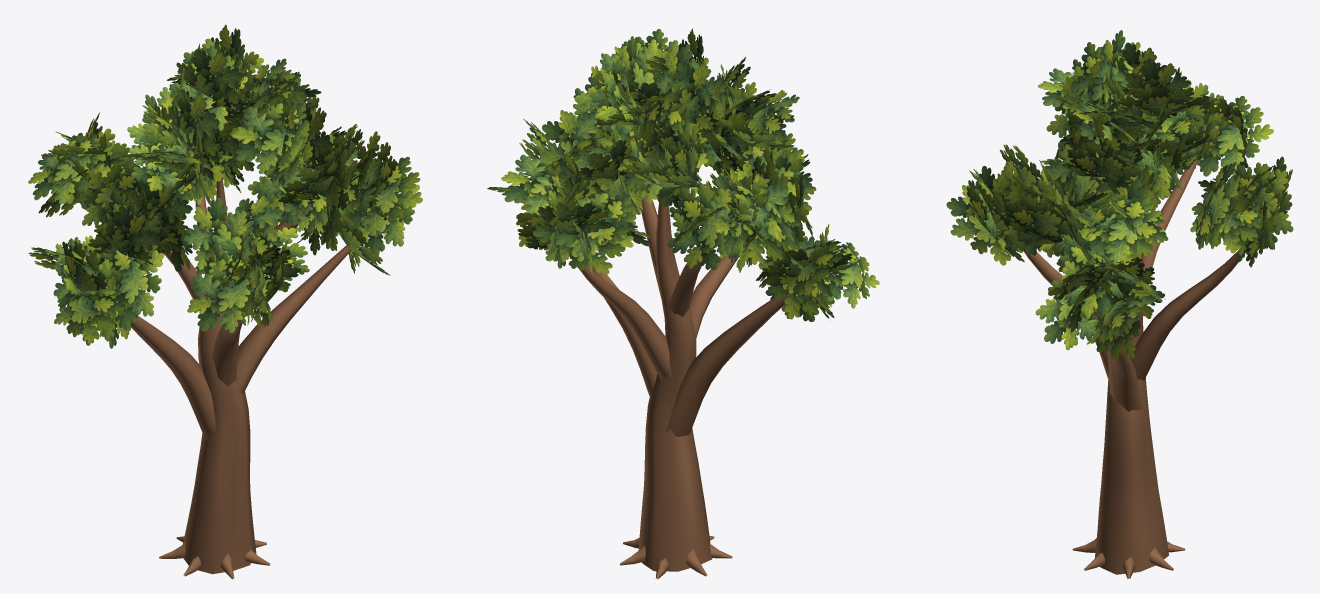
File: cincis-oak-painted-experiment.glb
3 views of the same model, side by side, from view 1: azimuth 30°, elevation 25°; view 2: azimuth 150°, elevation 25°; view 3: azimuth 270°, elevation 25° (orthographic).
Visible parts, largest first — view 1: Foliage, Trunk and branches; view 2: Foliage, Trunk and branches; view 3: Foliage, Trunk and branches.
Boxes of the visible parts, x1=… form: Foliage: x1=28, y1=24, x2=422, y2=348; Trunk and branches: x1=130, y1=160, x2=357, y2=579; Foliage: x1=487, y1=28, x2=879, y2=321; Trunk and branches: x1=569, y1=196, x2=797, y2=579; Foliage: x1=946, y1=30, x2=1293, y2=359; Trunk and branches: x1=1017, y1=160, x2=1262, y2=578.
Bounding box in the file's own units: 6.63 × 8.57 × 5.63.
2 materials, 1 textured.
